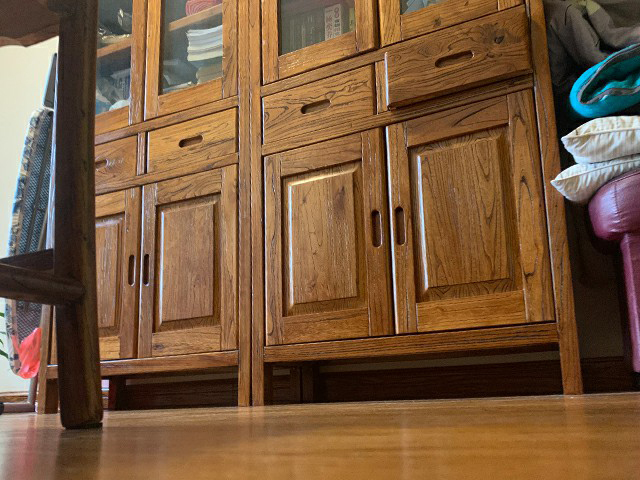cabinet: (102, 2, 582, 411)
